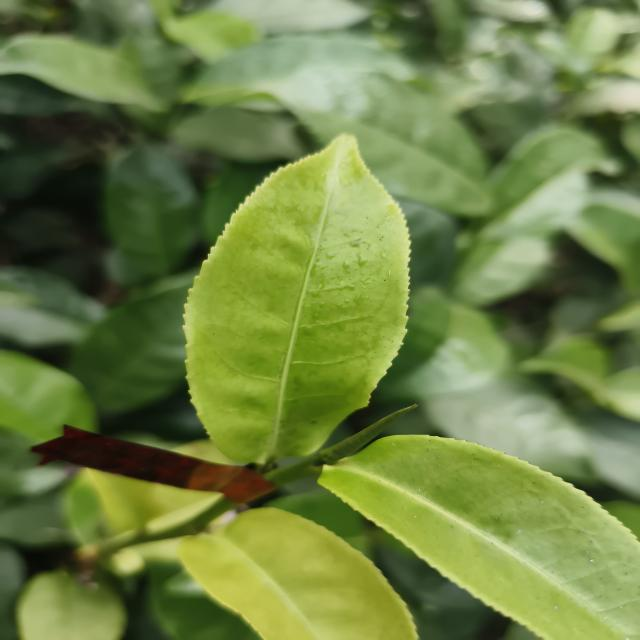Leaf: (184, 136, 409, 463), (319, 435, 640, 640), (178, 507, 417, 640), (294, 75, 491, 217), (69, 273, 194, 412), (423, 380, 593, 480), (182, 34, 411, 107), (379, 287, 510, 401), (480, 126, 605, 242), (0, 35, 162, 110), (105, 145, 196, 274), (0, 350, 97, 443), (0, 267, 105, 348), (17, 571, 126, 640), (454, 232, 551, 306)
